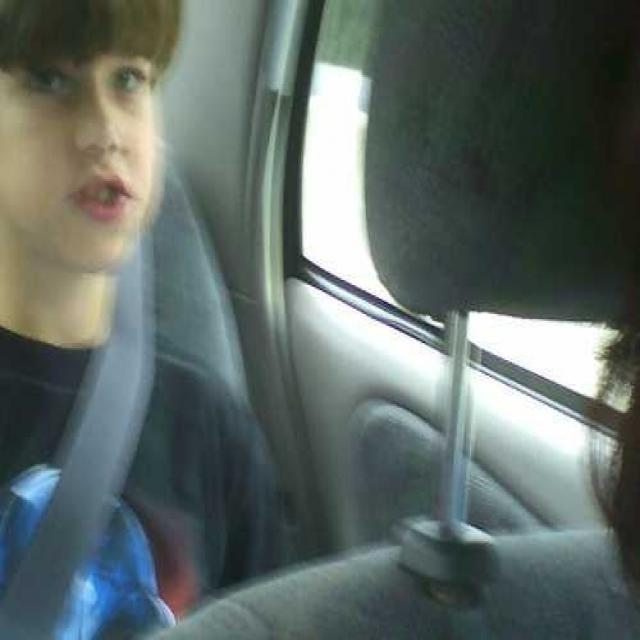seatbelt: (41, 227, 191, 596)
